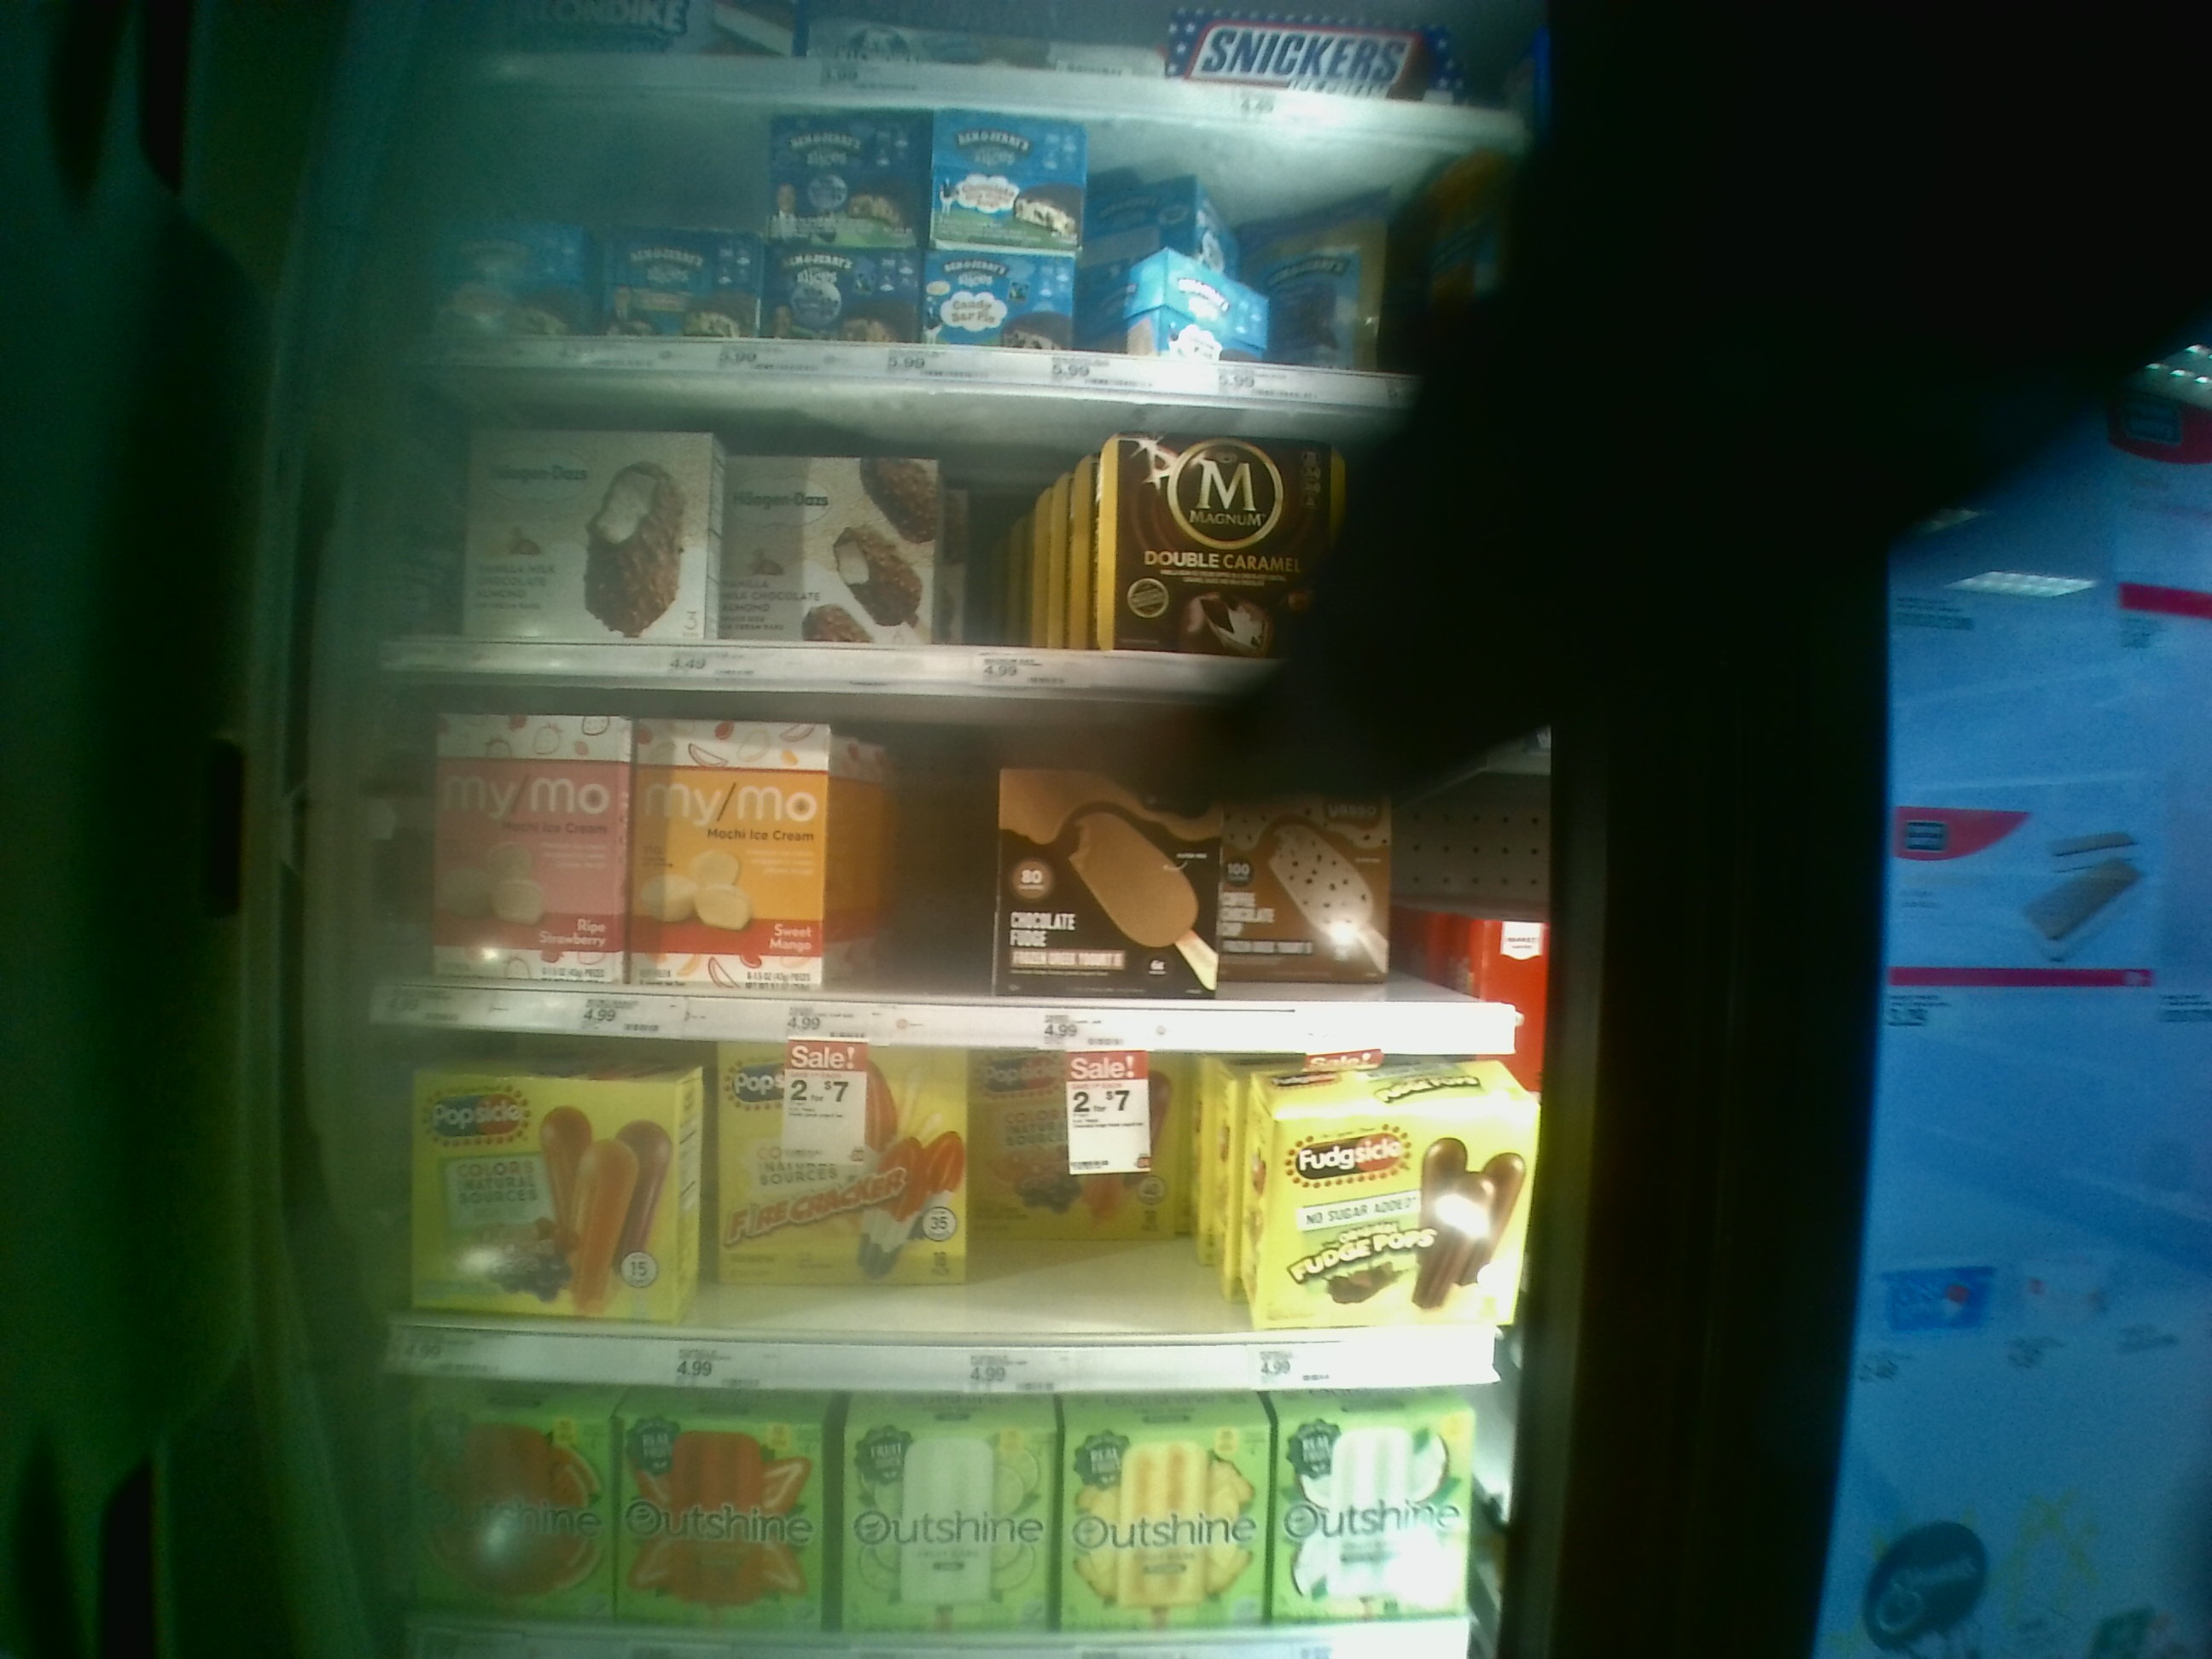ice-cream-shelf: (371, 1028, 1510, 1378), (369, 1377, 1505, 1659)
